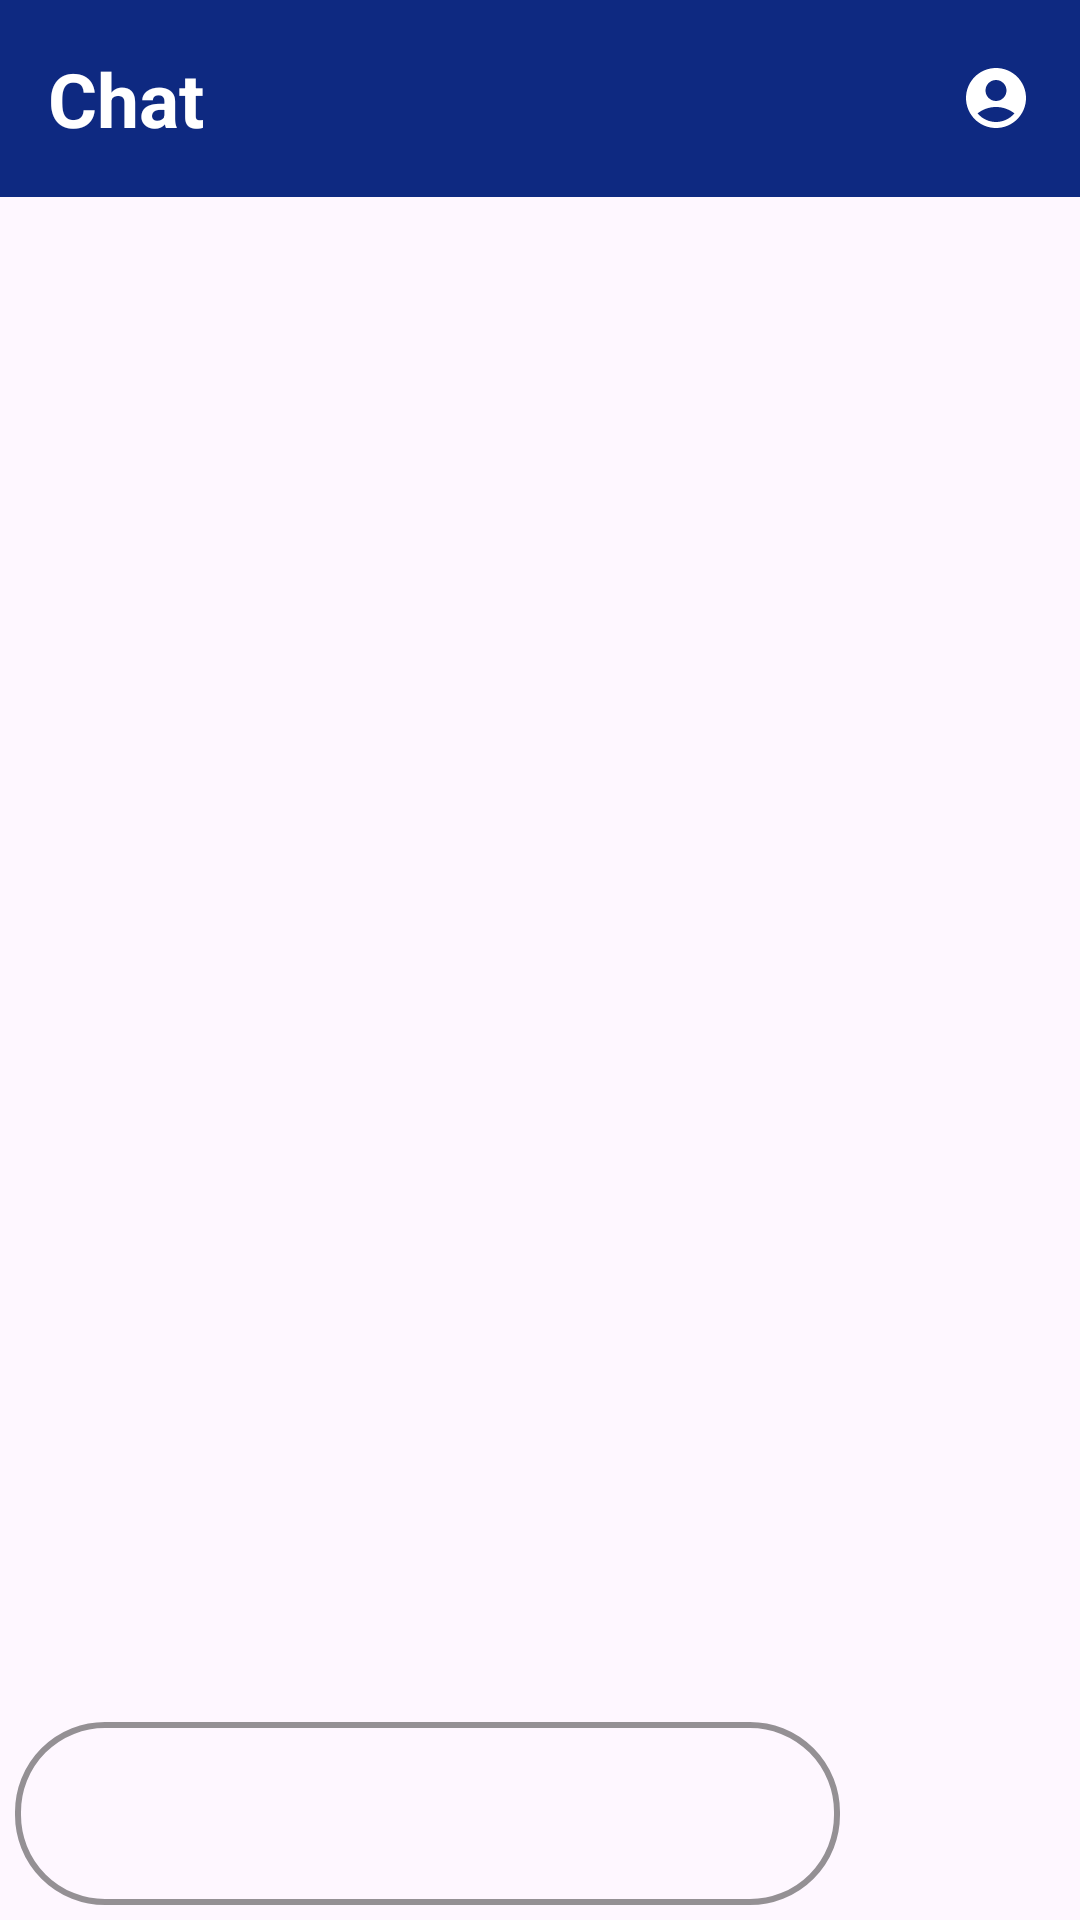

Named icons in this screenshot (1080px×1920px) and their centers, (x,y):
pofile: (996,98)
